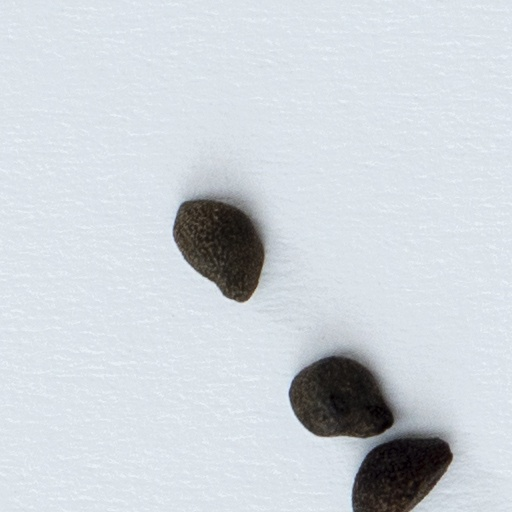Convolvulus-poly: (286, 345, 400, 440), (170, 196, 263, 305), (349, 428, 455, 511)
